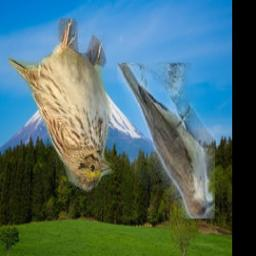Cuckoo: (116, 64, 214, 220)
Sparrow: (8, 18, 115, 192)
